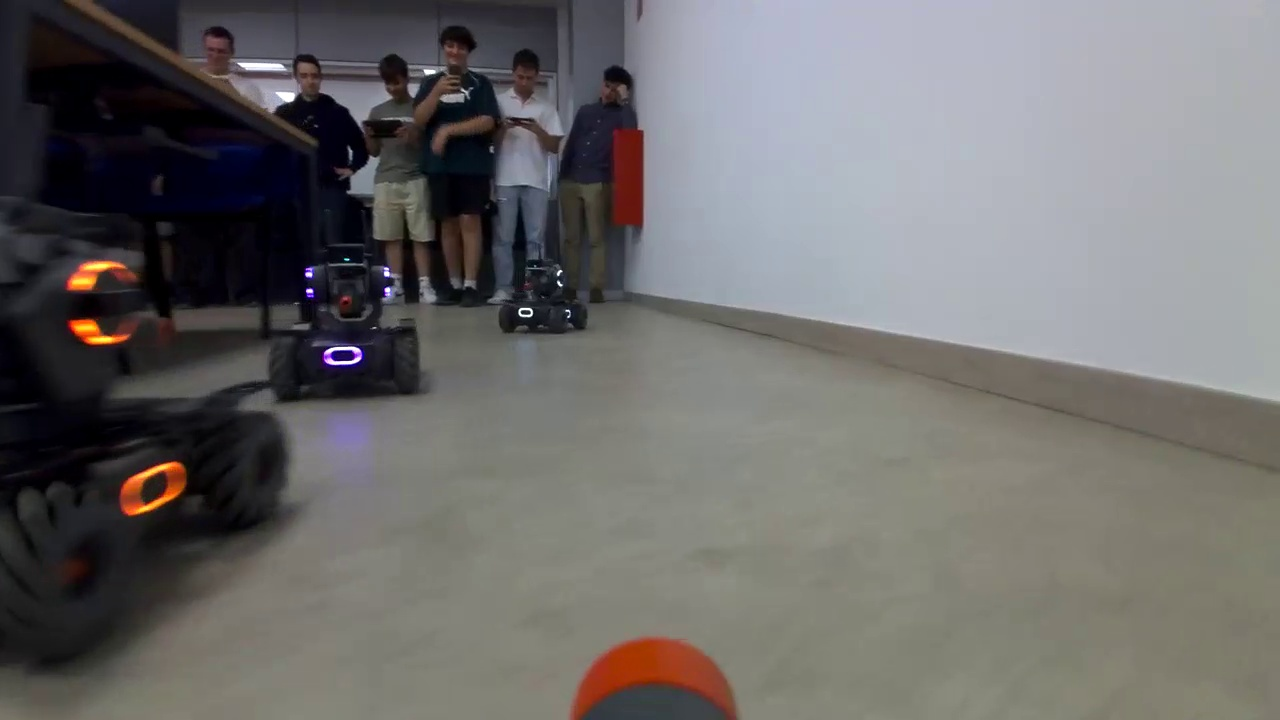robot: (10, 210, 315, 675), (260, 247, 448, 417), (500, 252, 590, 332)
